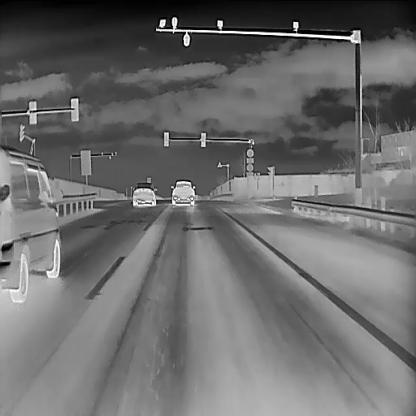car: (0, 142, 62, 303), (170, 178, 195, 206), (131, 181, 157, 206)
